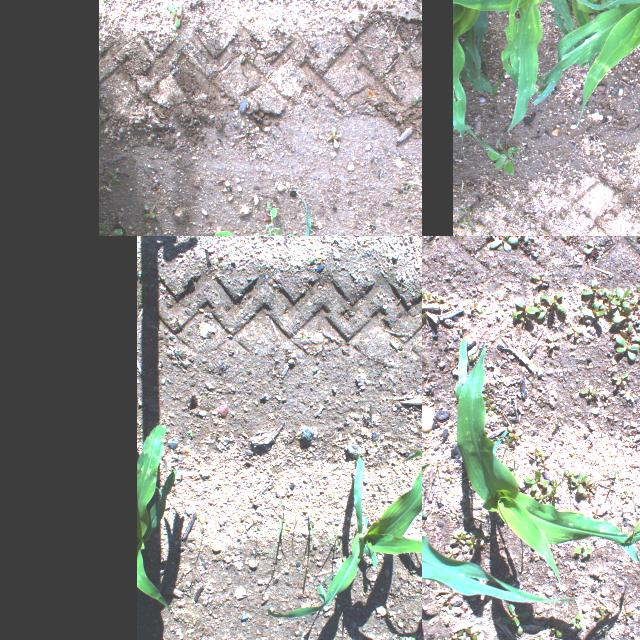crop: (422, 244, 577, 604), (454, 336, 640, 581), (268, 450, 422, 619), (452, 0, 593, 141), (532, 0, 640, 170), (98, 192, 311, 236), (138, 422, 176, 608), (404, 451, 422, 567)
weed: (250, 202, 301, 236), (484, 146, 518, 178), (537, 471, 567, 504), (326, 122, 348, 156), (614, 334, 640, 362), (498, 606, 532, 626), (540, 290, 564, 314), (166, 2, 188, 28), (512, 298, 534, 322), (580, 300, 606, 320), (488, 236, 517, 253), (142, 200, 156, 232), (524, 470, 546, 490), (582, 280, 608, 296), (570, 472, 588, 494), (610, 289, 632, 307), (542, 333, 562, 352), (506, 424, 524, 444), (547, 616, 565, 636), (568, 610, 584, 630), (401, 177, 419, 193), (582, 241, 600, 257), (531, 270, 549, 286), (624, 322, 640, 340), (572, 544, 592, 558), (530, 306, 552, 318), (566, 324, 582, 340), (450, 532, 466, 546), (612, 373, 628, 387), (594, 609, 608, 625), (464, 627, 480, 640), (486, 398, 496, 418), (578, 388, 600, 397), (464, 536, 478, 550), (620, 608, 634, 622), (442, 298, 458, 310), (455, 319, 467, 335), (609, 471, 625, 483), (610, 316, 634, 324), (108, 226, 126, 236), (422, 293, 440, 303), (448, 629, 464, 640), (469, 302, 483, 314), (444, 547, 460, 557), (535, 453, 551, 463), (536, 462, 552, 472), (612, 307, 632, 315), (594, 624, 610, 634), (620, 491, 632, 504), (632, 293, 640, 309), (479, 540, 488, 552), (589, 482, 599, 492), (635, 284, 640, 304), (444, 599, 454, 609), (100, 0, 114, 7), (530, 448, 542, 456), (520, 236, 534, 242), (484, 384, 494, 392), (514, 628, 524, 636), (559, 236, 571, 241), (584, 493, 594, 499), (459, 605, 469, 611), (470, 288, 484, 292), (534, 490, 542, 496), (485, 236, 495, 238)
